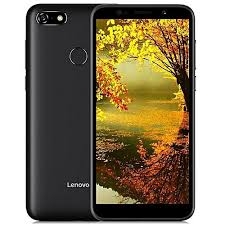lenovo: (22, 1, 196, 223), (87, 2, 198, 222), (24, 1, 91, 223)
